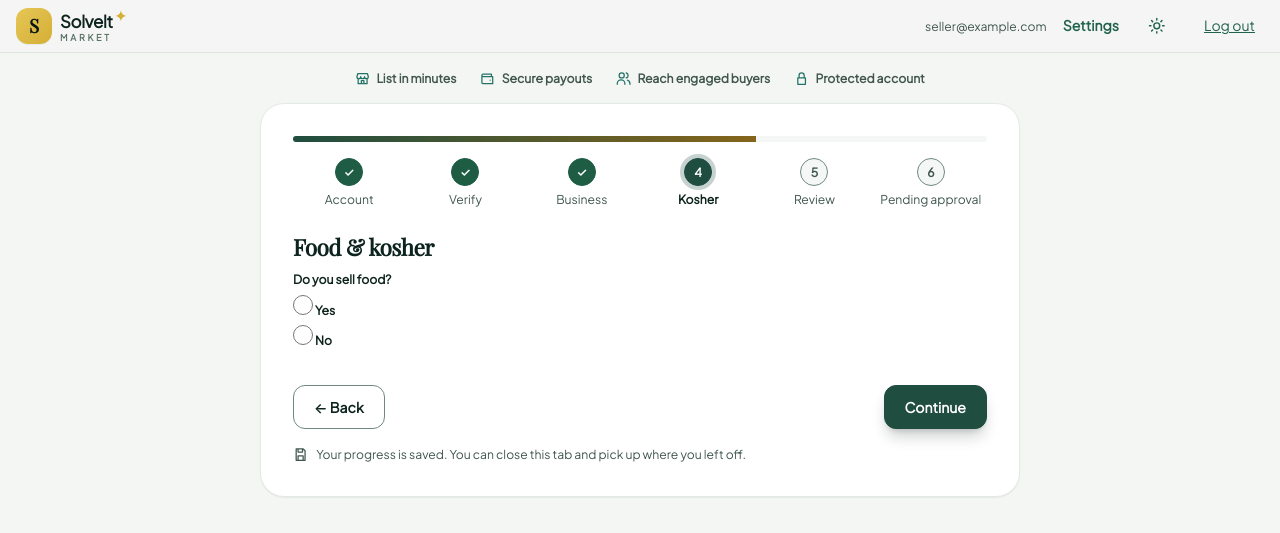
Test case: kosher branching (driven by seller_field_config) › validates required visible questions before continuing
Expected: the element "Do you sell food?" is shown, x1=293 y1=272 x2=391 y2=348
Click the button "Continue".
click(935, 407)  # box x1=884 y1=385 x2=987 y2=429
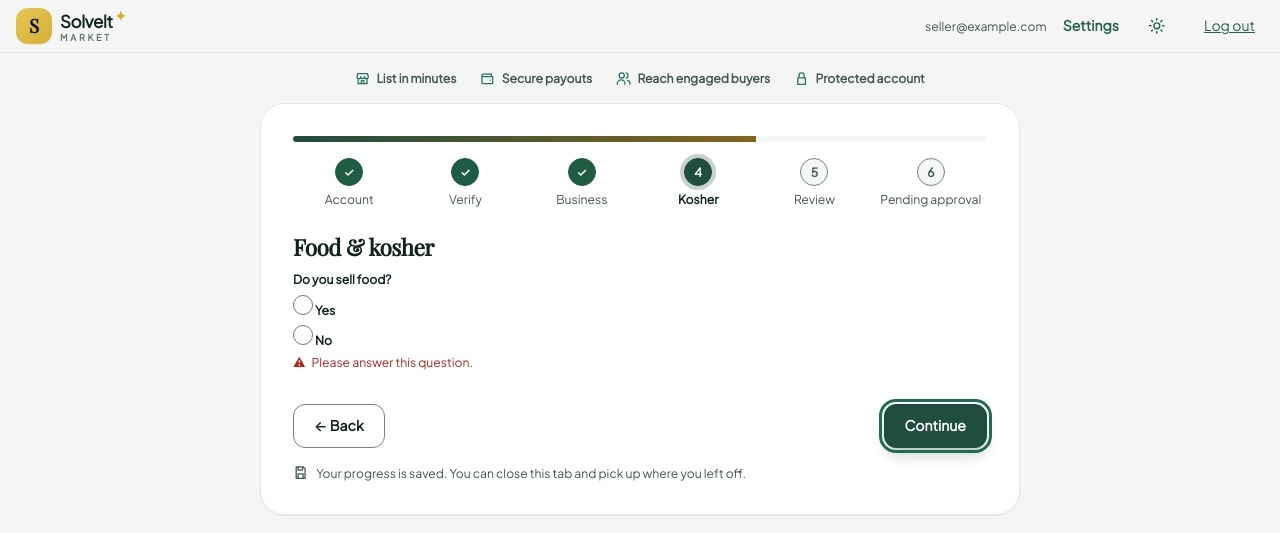
Now the text "Please answer this question." is shown, box x1=312 y1=354 x2=473 y2=370
